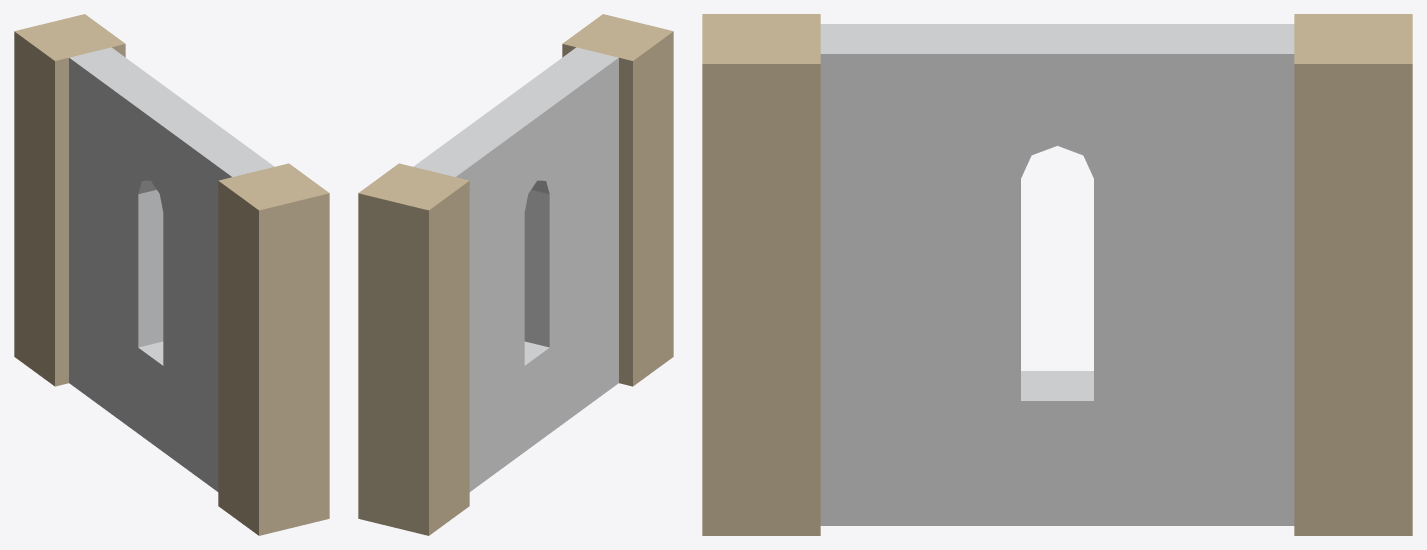
Rendered from Wood_Window_Narrow_01.glb.
3 renders of one model, left to right at view 1: azimuth 30°, elevation 25°; view 2: azimuth 150°, elevation 25°; view 3: azimuth 270°, elevation 25°, orthographic. The views are drawn at different scales.
Parts seen in each view (by area): view 1: Wood_Window_Narrow_01; view 2: Wood_Window_Narrow_01; view 3: Wood_Window_Narrow_01.
Boxes of the visible parts, x1,y1,x2,y2 form: Wood_Window_Narrow_01: (14,14,329,535); Wood_Window_Narrow_01: (358,14,673,535); Wood_Window_Narrow_01: (702,14,1412,535).
Size of the model in its own units: 0.5001 by 2.2 by 3.
